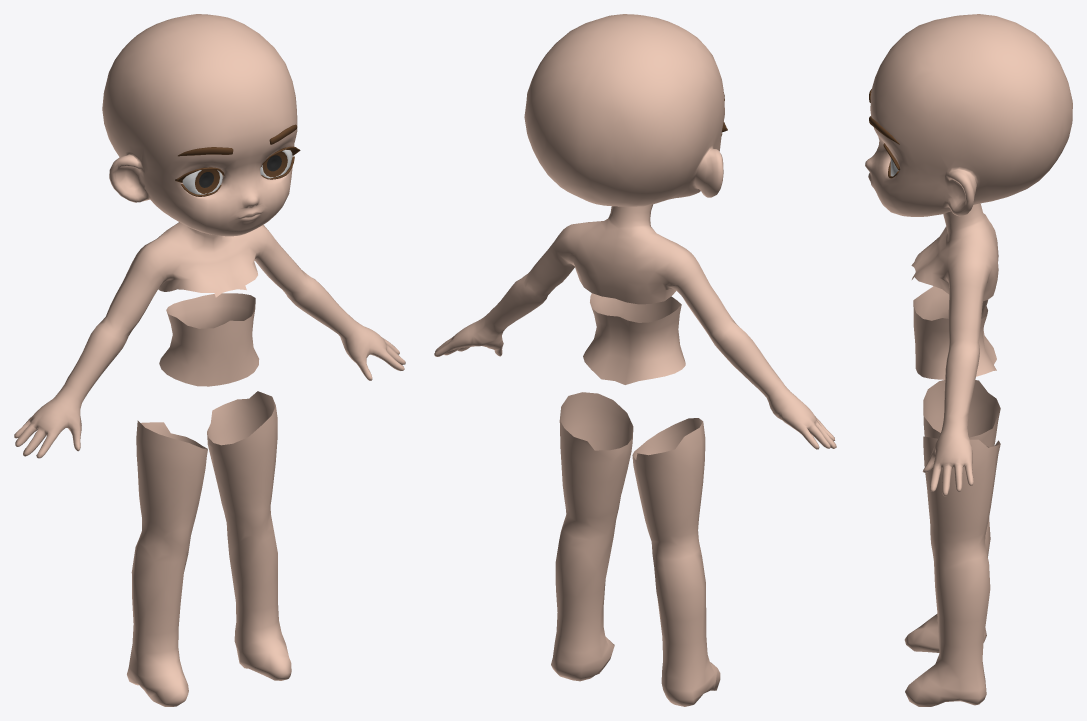
File: body base_l.fbx
3 renders of one model, left to right at view 1: azimuth 30°, elevation 25°; view 2: azimuth 150°, elevation 25°; view 3: azimuth 270°, elevation 25°, orthographic. The views are drawn at different scales.
Visible parts, largest first — view 1: body base_l; view 2: body base_l; view 3: body base_l.
Part boxes in pixels (box(x1,y1,x2,y2)): body base_l: box(14, 14, 405, 706); body base_l: box(434, 14, 836, 706); body base_l: box(865, 14, 1072, 706).
Size of the model in its own units: 85.36 by 138 by 39.71.
